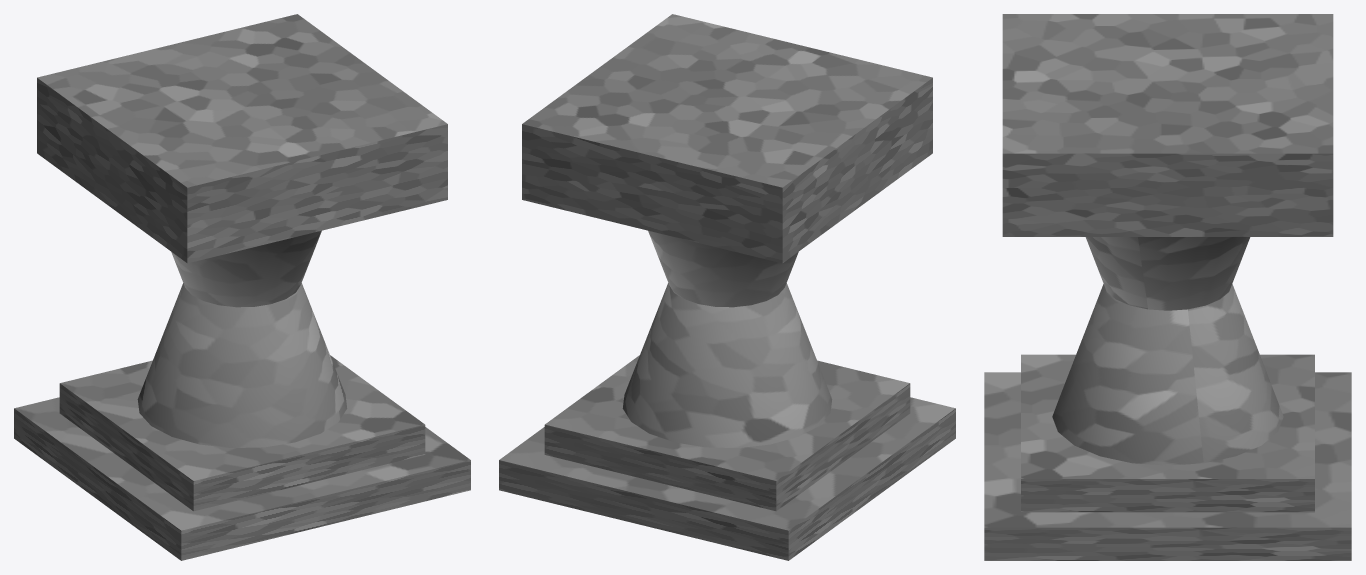
Rendered from TowerTier2.obj.
The picture shows the model from 3 angles, left to right: view 1: azimuth 30°, elevation 25°; view 2: azimuth 150°, elevation 25°; view 3: azimuth 270°, elevation 25°; orthographic projection. The views are drawn at different scales.
Parts seen in each view (by area): view 1: polySurface2 pCube5, pCone1, pCube5 polySurface4, pCube5 polySurface3, pCone2; view 2: polySurface2 pCube5, pCone1, pCube5 polySurface4, pCube5 polySurface3, pCone2; view 3: polySurface2 pCube5, pCone1, pCube5 polySurface4, pCube5 polySurface3, pCone2.
Boxes of the visible parts, x1=… form: polySurface2 pCube5: x1=37, y1=14, x2=447, y2=263; pCone1: x1=137, y1=283, x2=347, y2=447; pCube5 polySurface4: x1=14, y1=397, x2=470, y2=560; pCube5 polySurface3: x1=59, y1=355, x2=425, y2=511; pCone2: x1=171, y1=230, x2=321, y2=307; polySurface2 pCube5: x1=522, y1=14, x2=932, y2=263; pCone1: x1=622, y1=283, x2=832, y2=447; pCube5 polySurface4: x1=499, y1=397, x2=955, y2=560; pCube5 polySurface3: x1=544, y1=355, x2=910, y2=511; pCone2: x1=648, y1=230, x2=798, y2=307; polySurface2 pCube5: x1=1002, y1=14, x2=1333, y2=236; pCone1: x1=1052, y1=284, x2=1283, y2=465; pCube5 polySurface4: x1=984, y1=372, x2=1351, y2=560; pCube5 polySurface3: x1=1021, y1=354, x2=1314, y2=512; pCone2: x1=1085, y1=237, x2=1250, y2=310.
Size of the model in its own units: 2 by 2.4 by 2.
